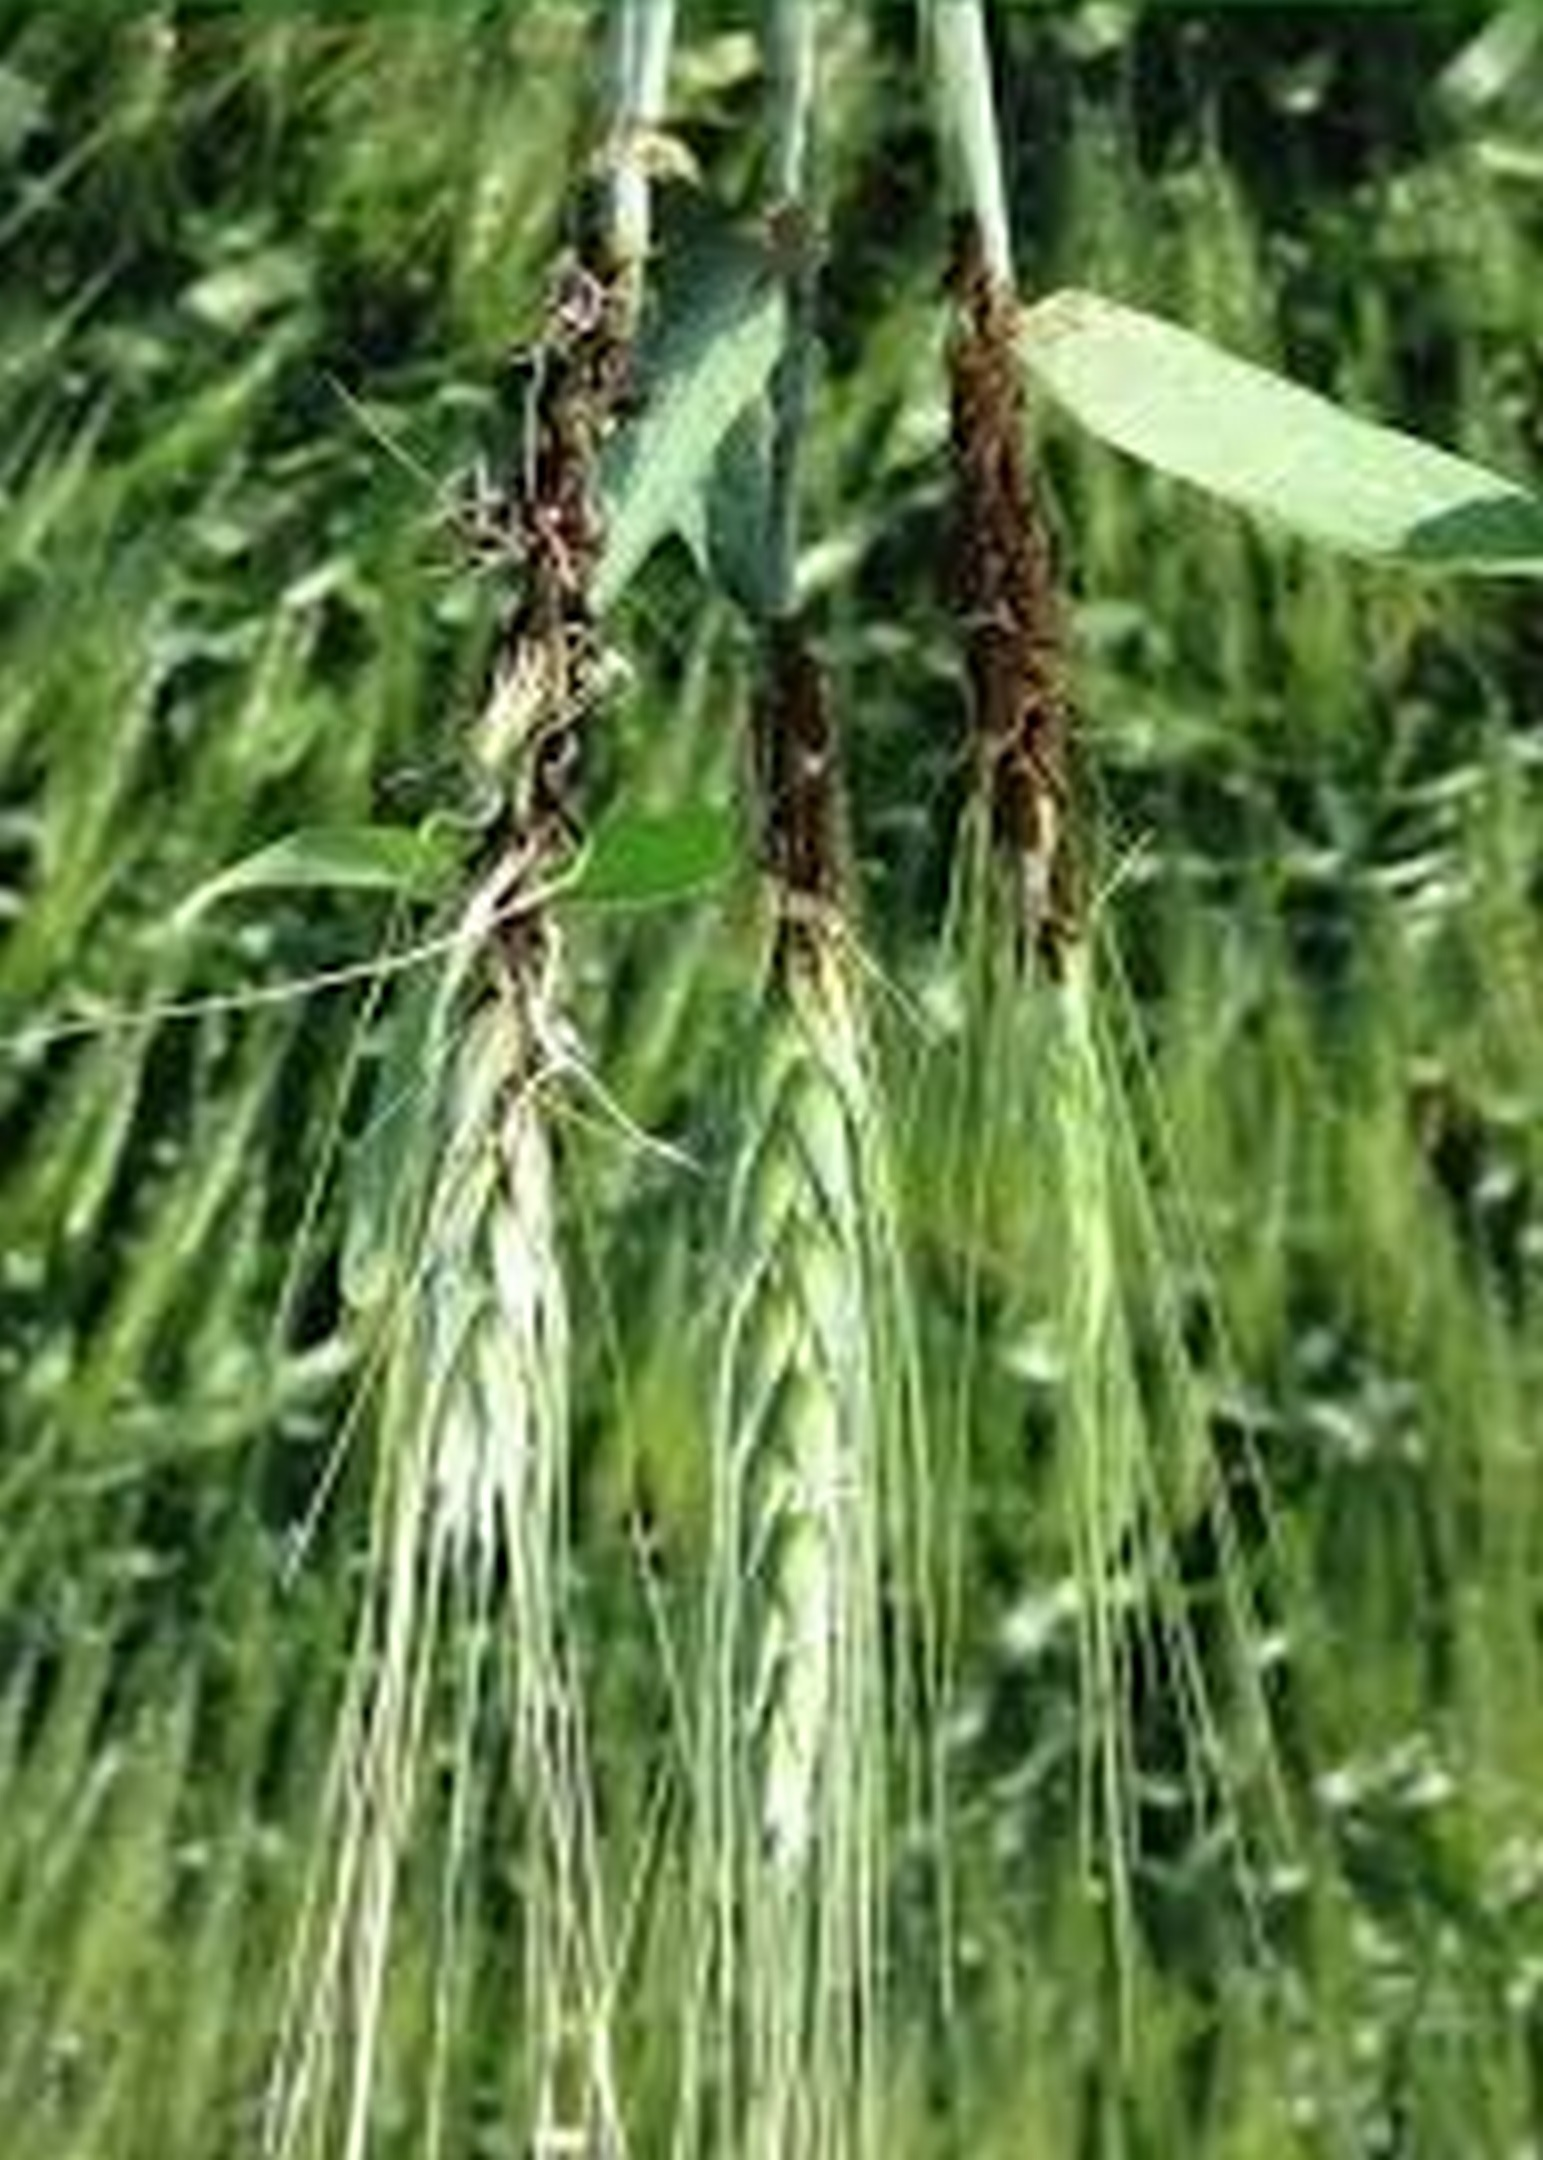Wheat Loose Smut: (438, 222, 1109, 955)
